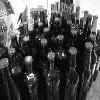beer: (44, 53, 62, 100)
